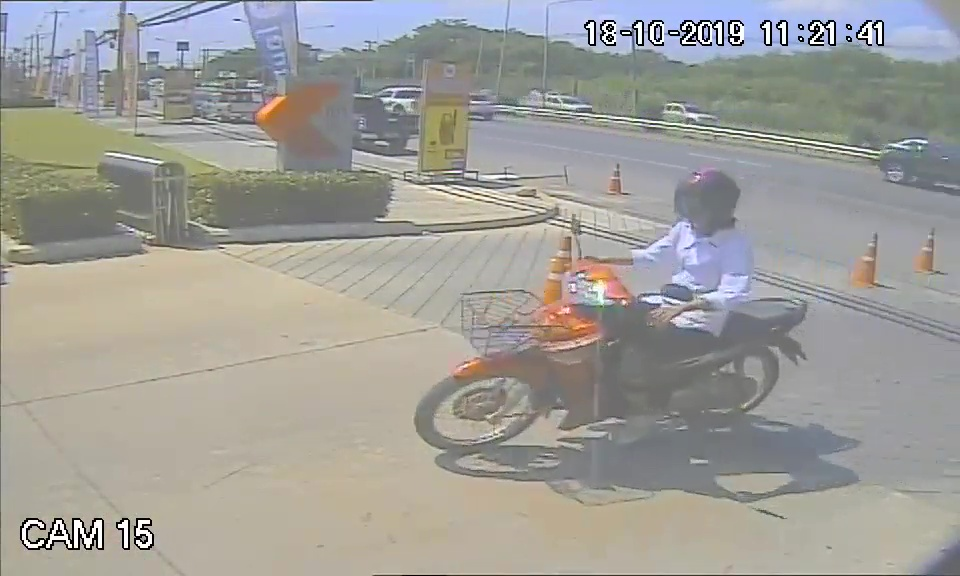motorcycle: (414, 252, 811, 452)
